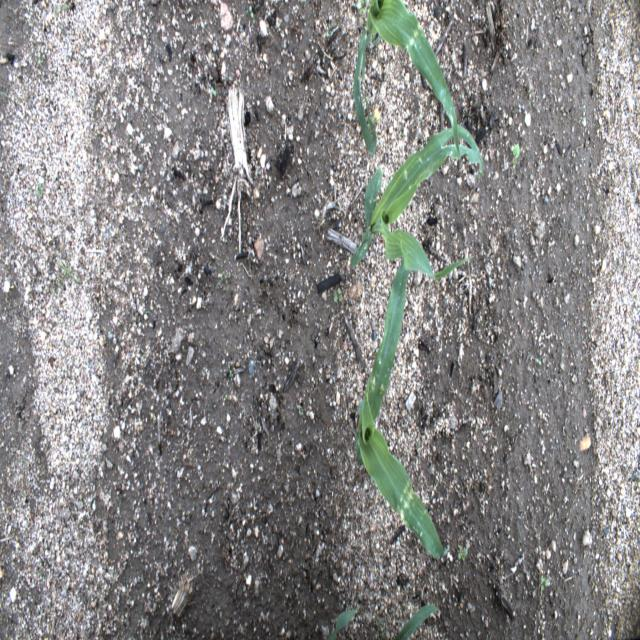crop: (355, 240, 449, 559), (350, 124, 484, 278), (354, 0, 462, 163), (327, 602, 438, 639), (511, 142, 520, 169)
weed: (54, 250, 83, 296), (215, 267, 230, 290), (356, 0, 372, 15), (54, 2, 70, 15), (457, 545, 469, 562), (333, 285, 343, 303), (35, 179, 44, 198), (248, 3, 255, 20), (540, 576, 548, 590), (208, 85, 218, 96), (326, 23, 332, 39), (40, 569, 46, 582), (228, 368, 233, 383), (222, 392, 229, 402), (227, 362, 232, 376), (37, 50, 41, 66), (535, 357, 542, 366), (297, 403, 301, 415)
